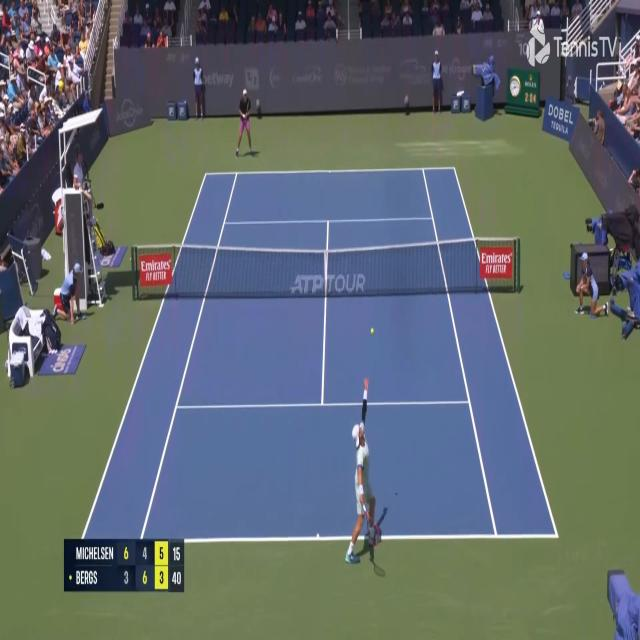tennis-player: (342, 366, 390, 579), (236, 87, 257, 157)
